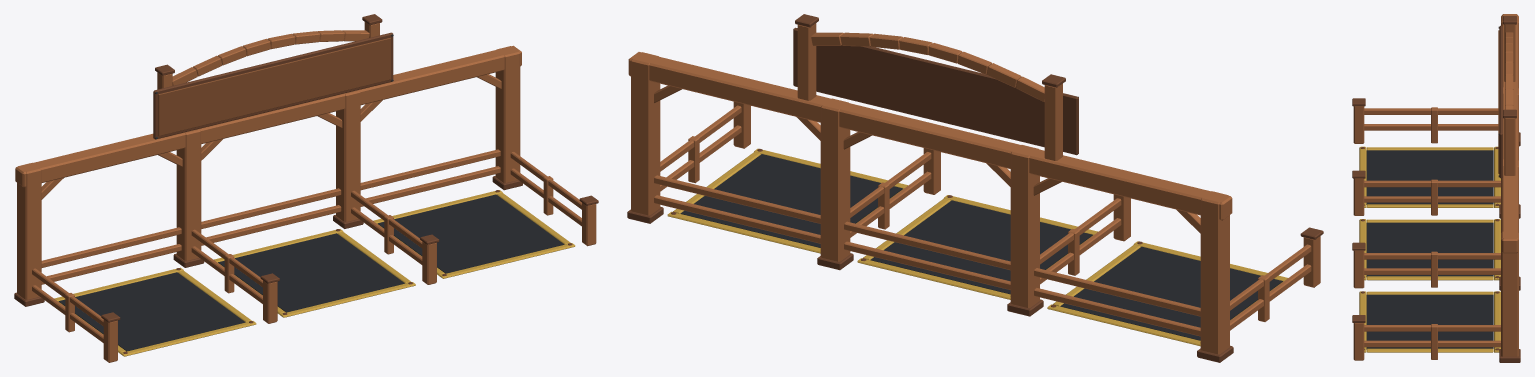
File: Lodge_HuntBays.fbx
3 views of the same model, side by side, from view 1: azimuth 30°, elevation 25°; view 2: azimuth 150°, elevation 25°; view 3: azimuth 270°, elevation 25° (orthographic). The views are drawn at different scales.
Parts seen in each view (by area): view 1: Frame, PadCentre, SignFace, Dividers, SignFrame, Arch, Trim2, Trim3, Trim1, FnWoodDark, Caps; view 2: Frame, PadCentre, SignFrame, Dividers, Arch, Trim1, Trim2, Trim3, FnWoodDark; view 3: PadCentre, Dividers, Frame, Trim2, Trim3, Trim1, Arch, SignFrame, FnWoodDark, Caps, SignFace.
Boxes of the visible parts, bbox=[...] form: Frame: bbox=[15, 22, 521, 299]; PadCentre: bbox=[58, 194, 564, 351]; SignFace: bbox=[158, 37, 390, 135]; Dividers: bbox=[32, 152, 596, 362]; SignFrame: bbox=[153, 32, 393, 139]; Arch: bbox=[172, 30, 369, 85]; Trim2: bbox=[214, 229, 415, 317]; Trim3: bbox=[373, 190, 575, 278]; Trim1: bbox=[54, 267, 256, 356]; FnWoodDark: bbox=[14, 14, 522, 306]; Caps: bbox=[101, 195, 598, 322]; Frame: bbox=[628, 23, 1232, 354]; PadCentre: bbox=[680, 154, 1282, 340]; SignFrame: bbox=[793, 27, 1078, 155]; Dividers: bbox=[660, 101, 1320, 330]; Arch: bbox=[811, 32, 1044, 101]; Trim1: bbox=[1047, 241, 1287, 346]; Trim2: bbox=[857, 195, 1097, 299]; Trim3: bbox=[667, 148, 907, 253]; FnWoodDark: bbox=[627, 14, 1233, 362]; PadCentre: bbox=[1366, 150, 1493, 349]; Dividers: bbox=[1353, 106, 1500, 360]; Frame: bbox=[1501, 14, 1518, 356]; Trim2: bbox=[1359, 219, 1500, 280]; Trim3: bbox=[1359, 291, 1500, 352]; Trim1: bbox=[1359, 146, 1500, 207]; Arch: bbox=[1505, 32, 1513, 109]; SignFrame: bbox=[1499, 25, 1502, 178]; FnWoodDark: bbox=[1499, 16, 1520, 362]; Caps: bbox=[1352, 98, 1365, 322]; SignFace: bbox=[1498, 30, 1499, 173].
Bounding box in the file's own units: 37.6 × 14.6 × 11.82.
